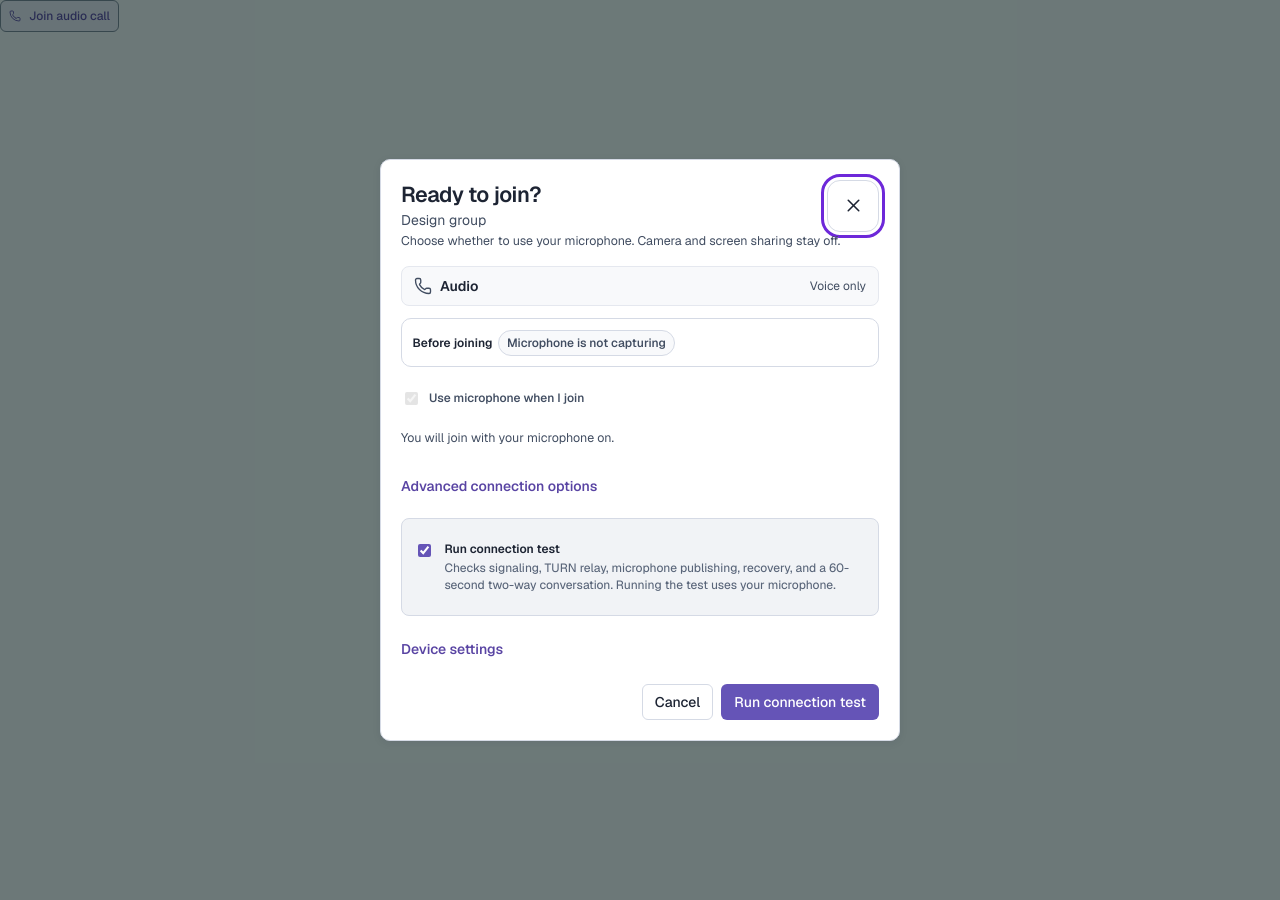
Test: CallPanel calls › keeps a failed readiness run in the lobby with an exportable report
Click the button "Run connection test" at (800, 702), box left=721, top=684, right=879, bottom=720
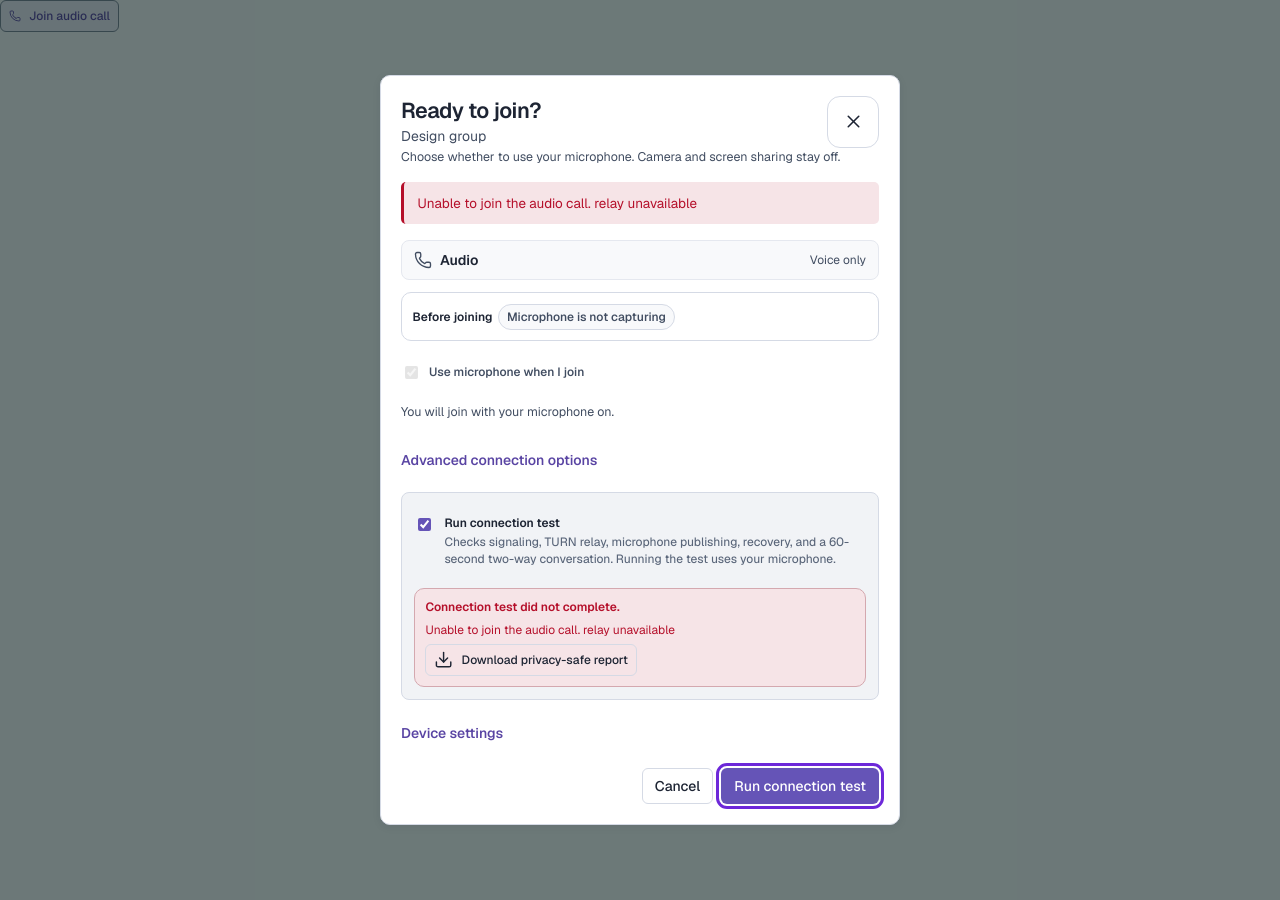
expect the button "Run connection test" is enabled: met, box left=721, top=768, right=879, bottom=804
expect the text "Connection test did not complete." is shown: met, box left=425, top=599, right=620, bottom=615
expect the button "Download privacy-safe report" is shown: met, box left=425, top=644, right=637, bottom=676
